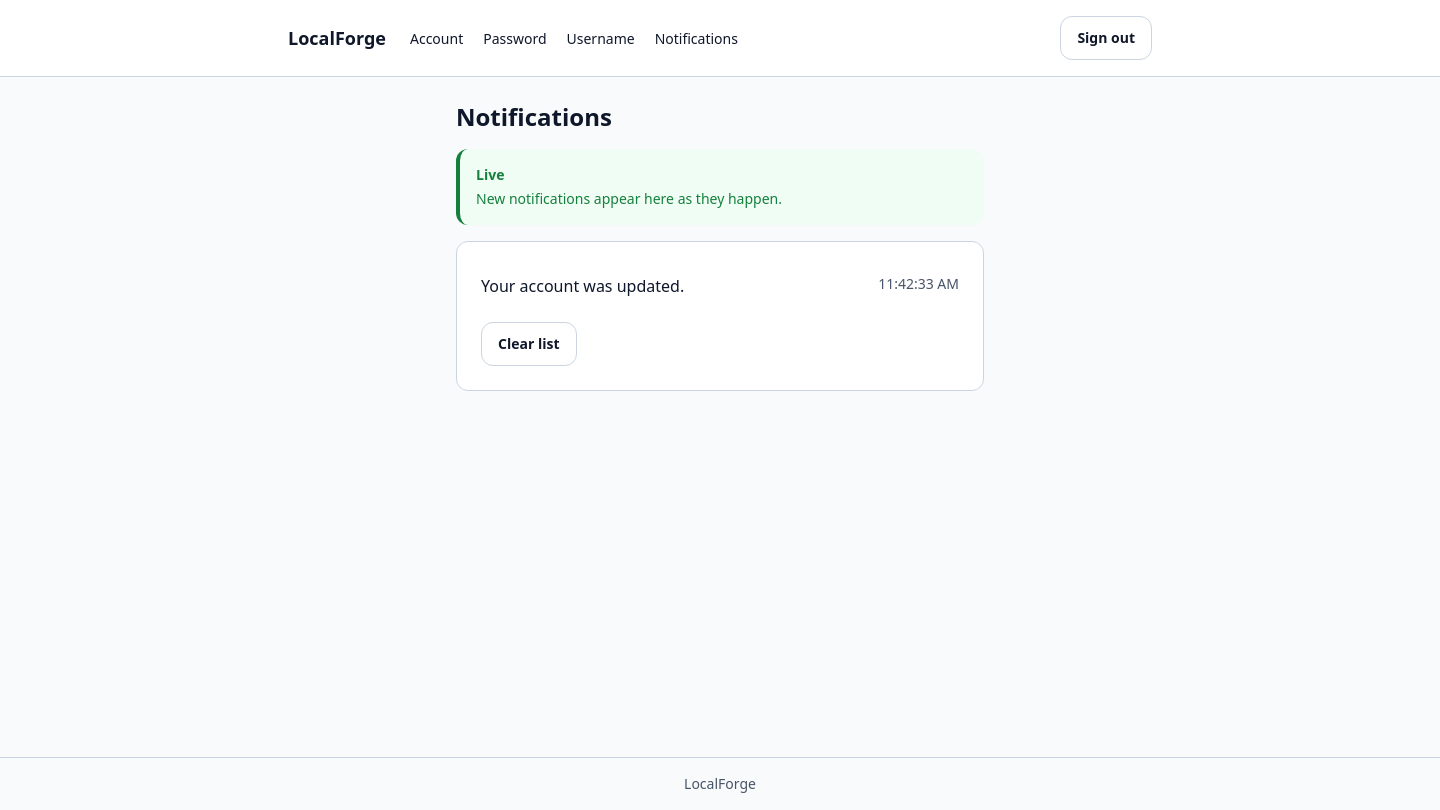
Test: accounts and sign-out › closes the socket on sign-out and shows the next account an empty feed
The image size is (1440, 810).
Click the button "Sign out" at (1106, 38), box [1060, 16, 1152, 60]
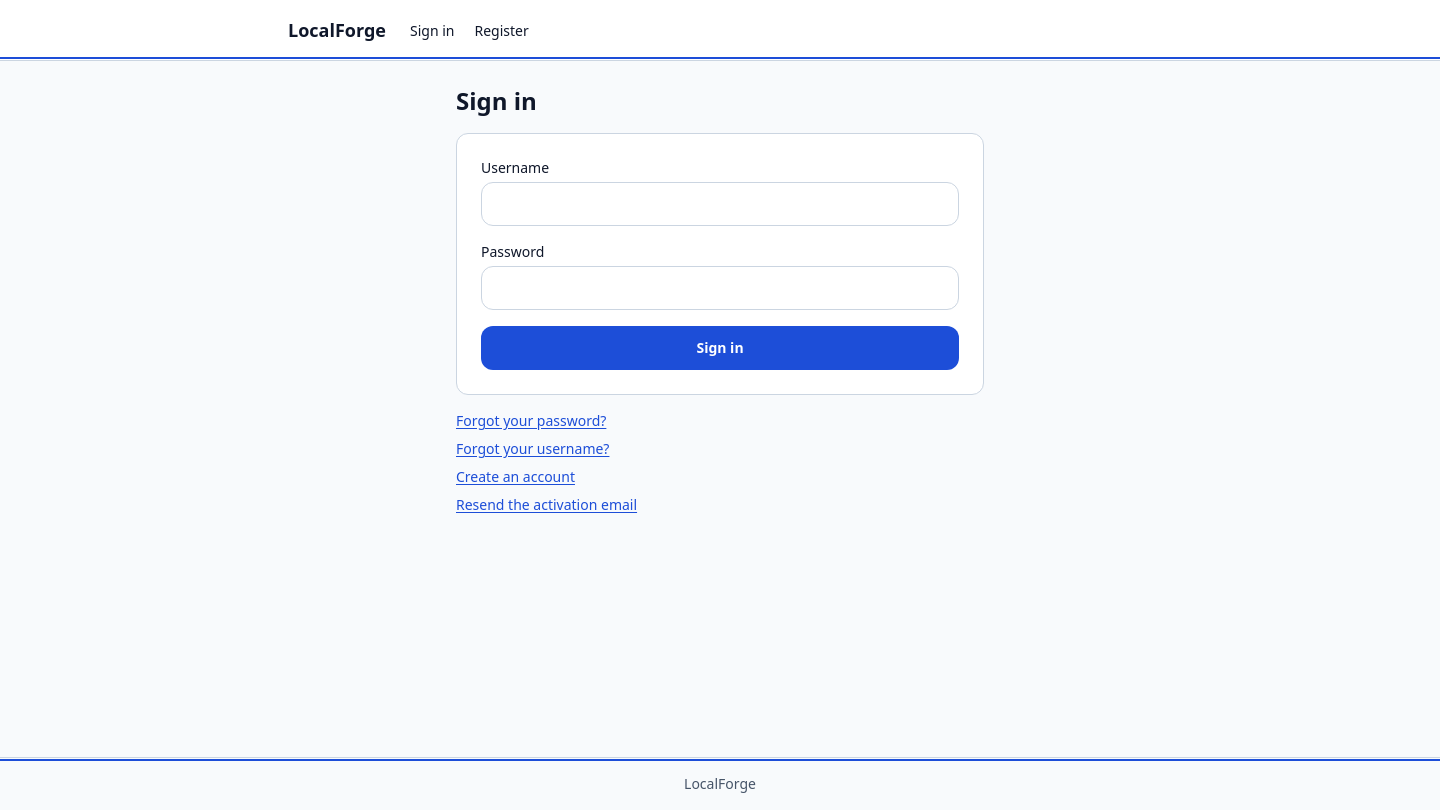
Check: the heading "Sign in" is shown, box [456, 84, 537, 117]
Type "grace" into the field labelled "Username" at (720, 204), box [481, 182, 959, 226]
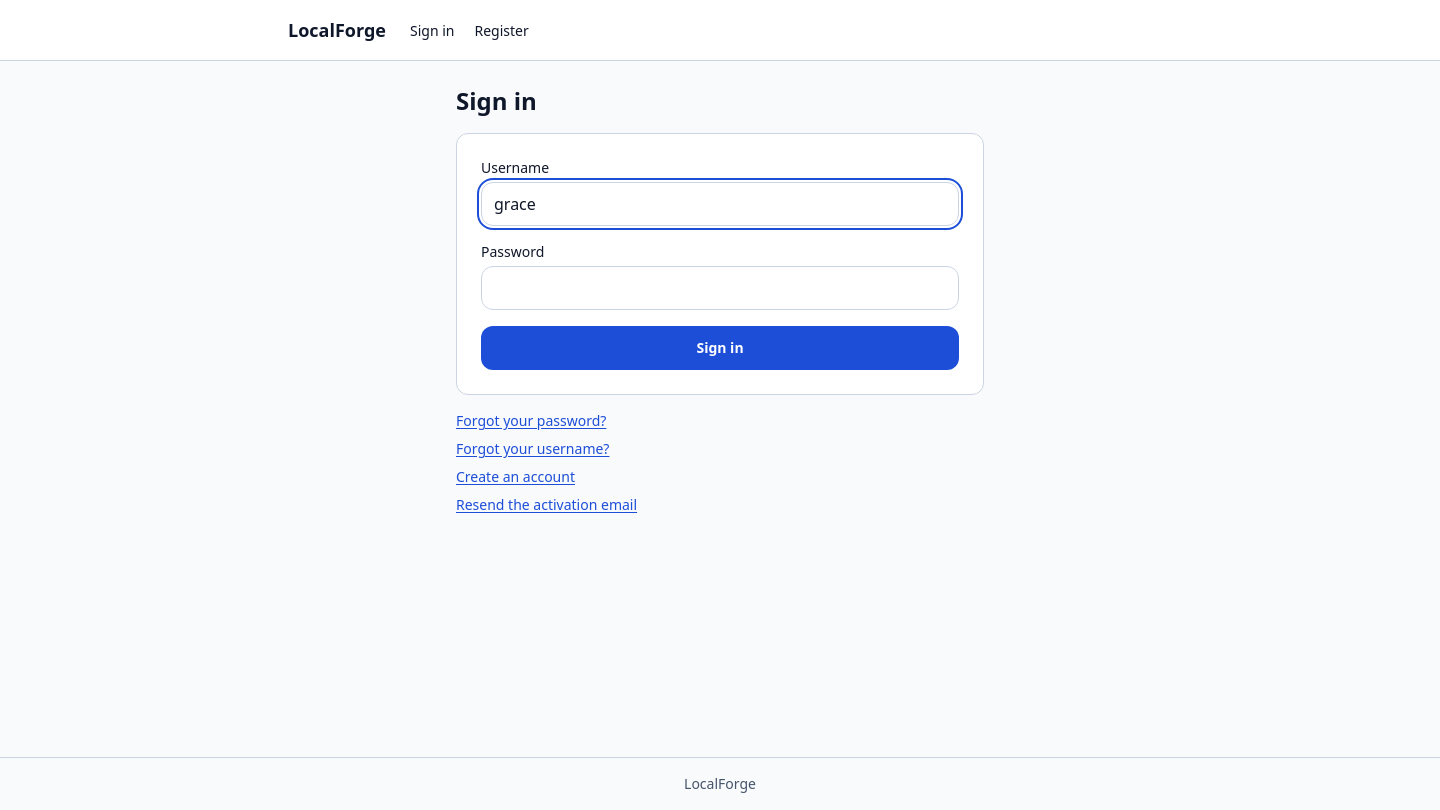
Type "correct horse" into the password field labelled "Password" at (720, 288), box [481, 266, 959, 310]
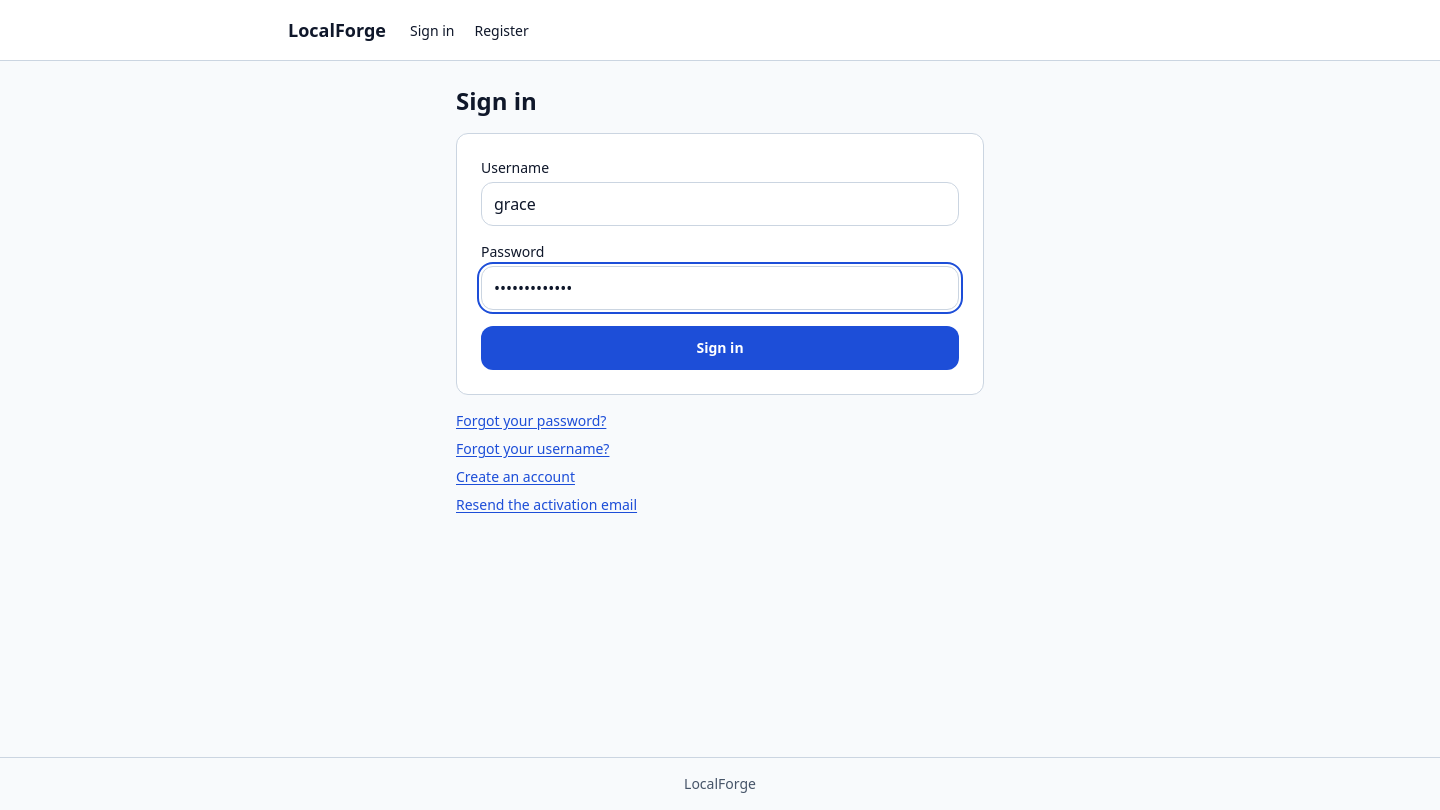
Click the button "Sign in" at (720, 348), box [481, 326, 959, 370]
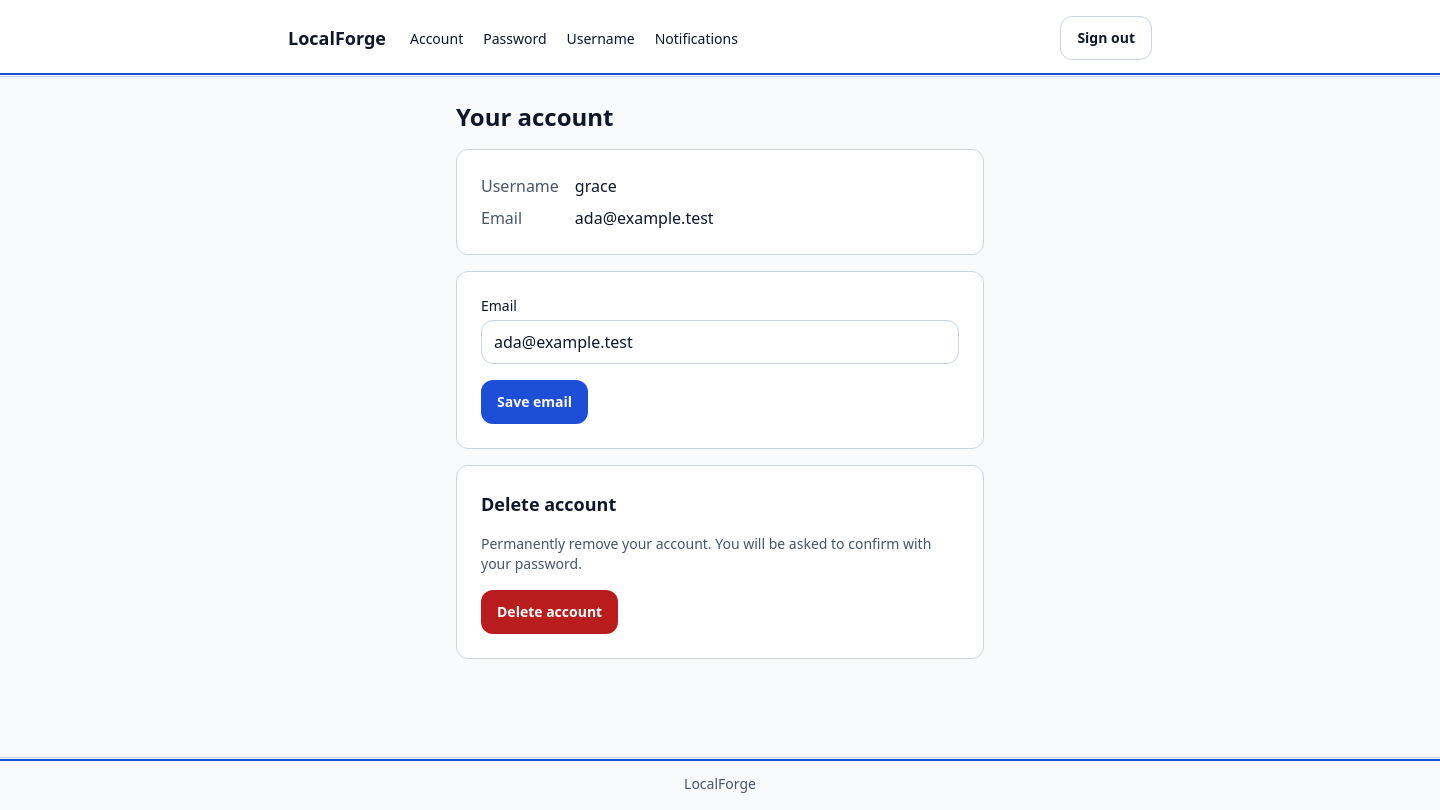
Click the link "Notifications" at (696, 38), box [655, 29, 738, 48]
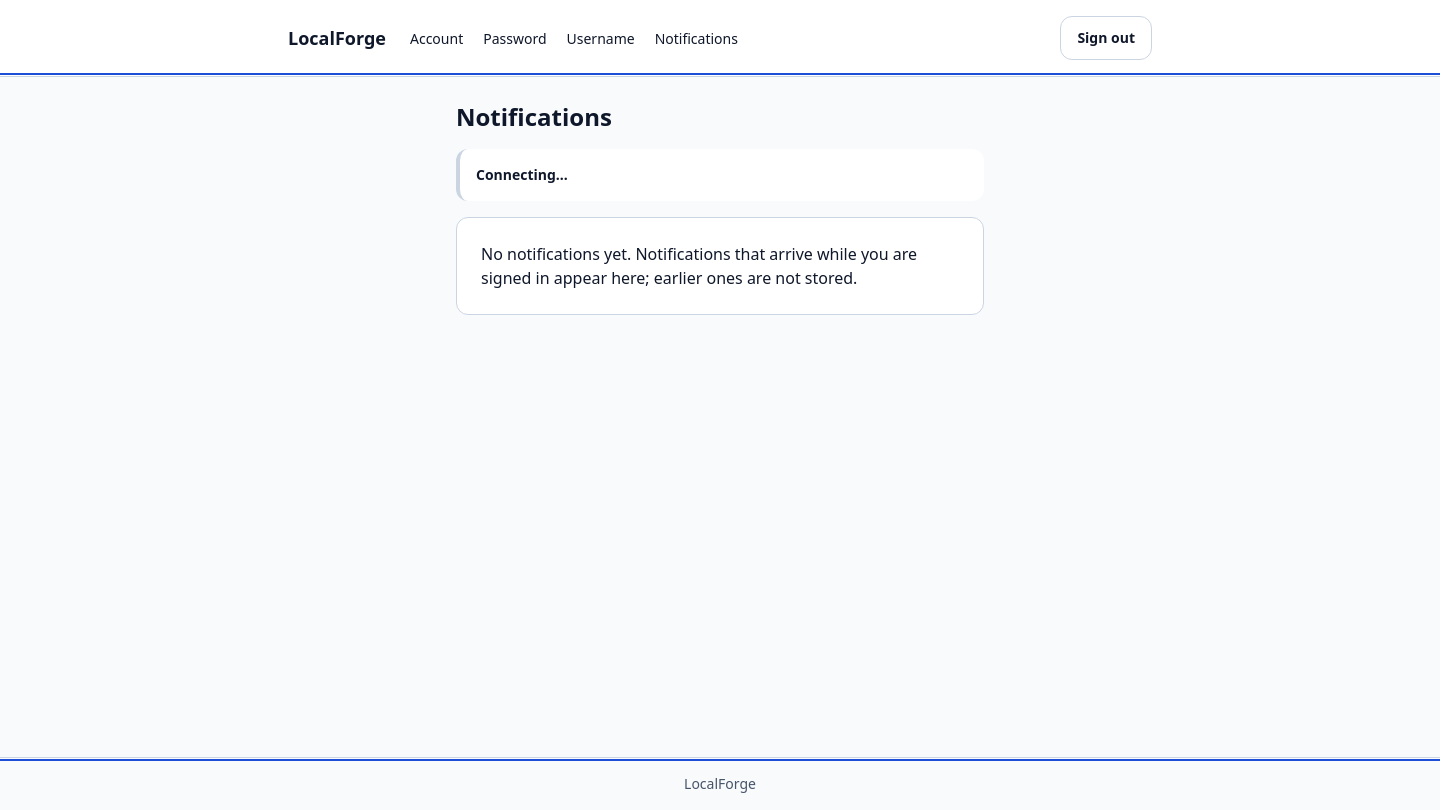
Check: the text "No notifications yet" is shown, box [481, 243, 917, 289]
